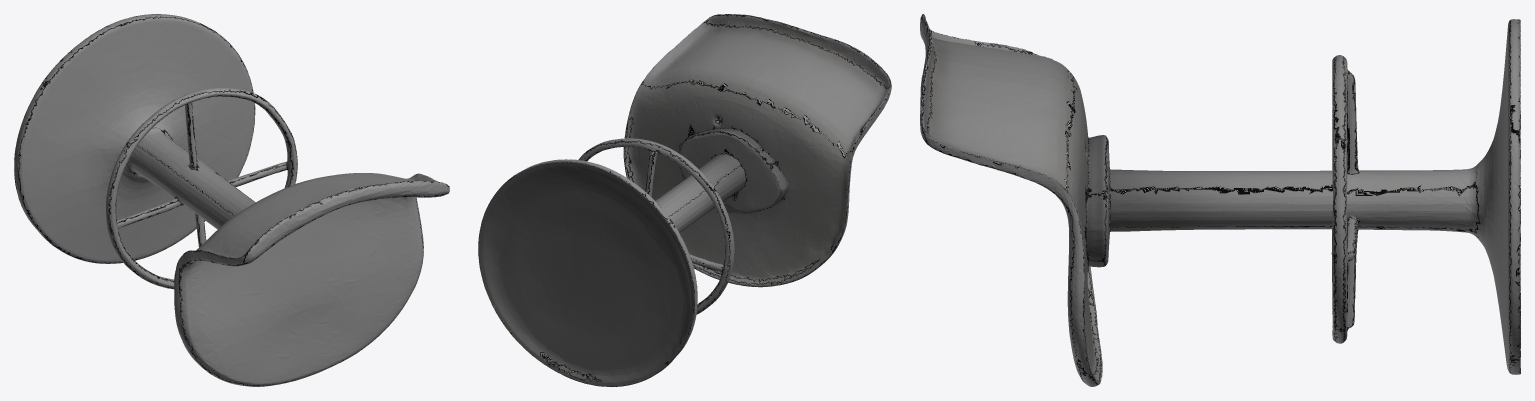
3 views of the same model, side by side, from view 1: azimuth 30°, elevation 25°; view 2: azimuth 150°, elevation 25°; view 3: azimuth 270°, elevation 25° (orthographic). The views are drawn at different scales.
Size of the model in its own units: 0.5278 by 0.5039 by 0.8338.
1 material, 1 textured.
